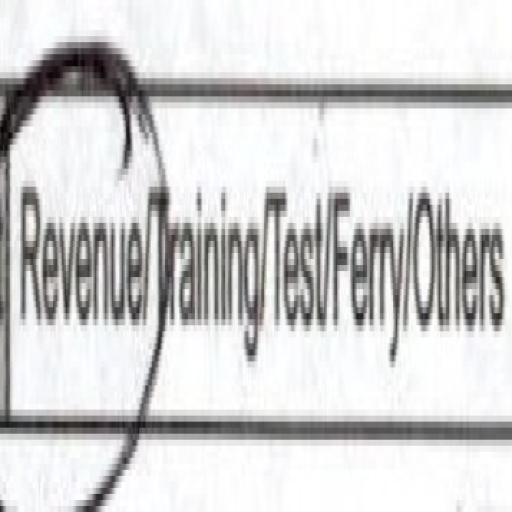check: (0, 60, 149, 512)
